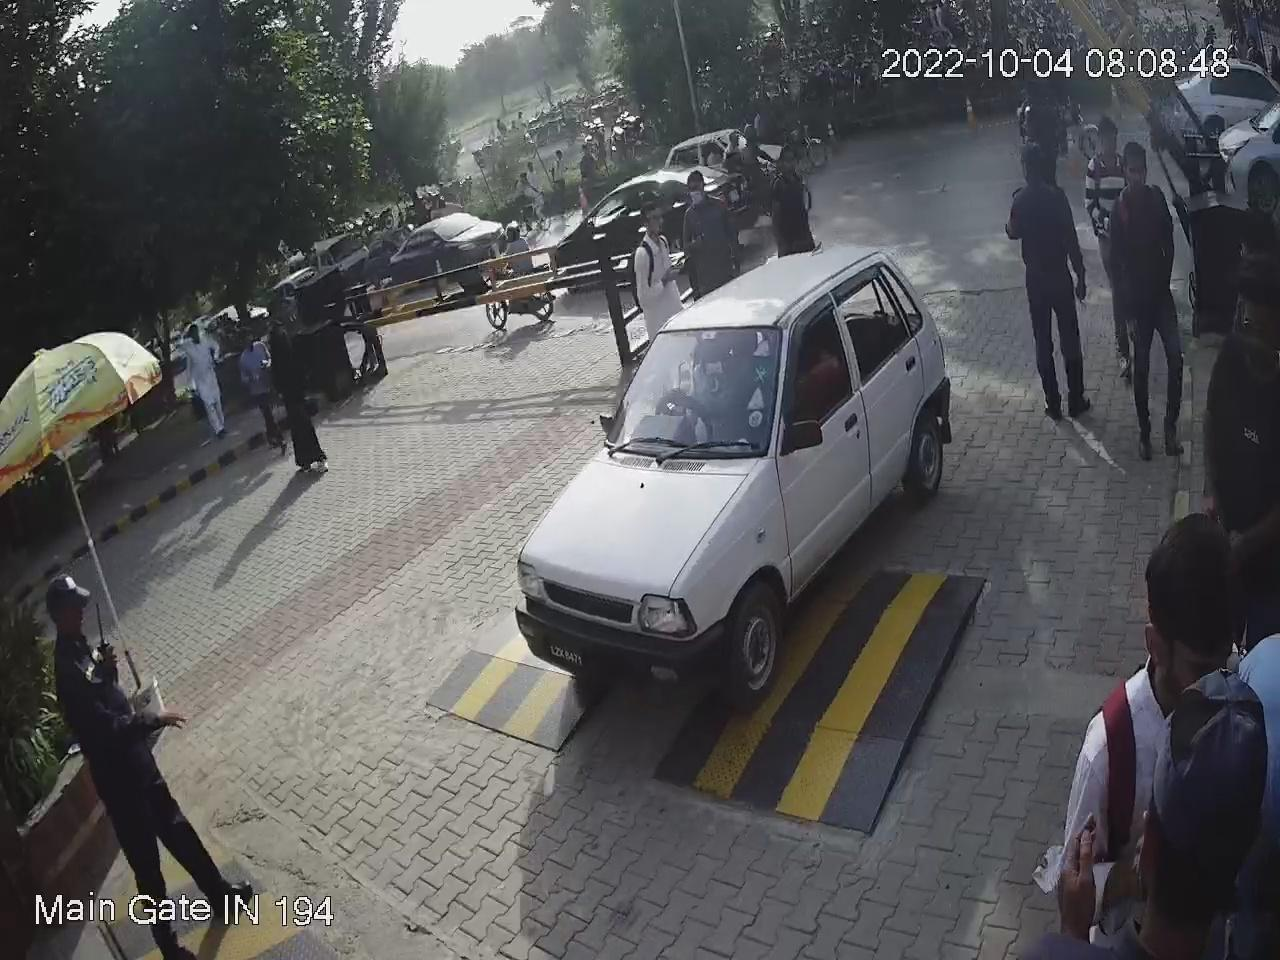windshield: (598, 315, 790, 465)
